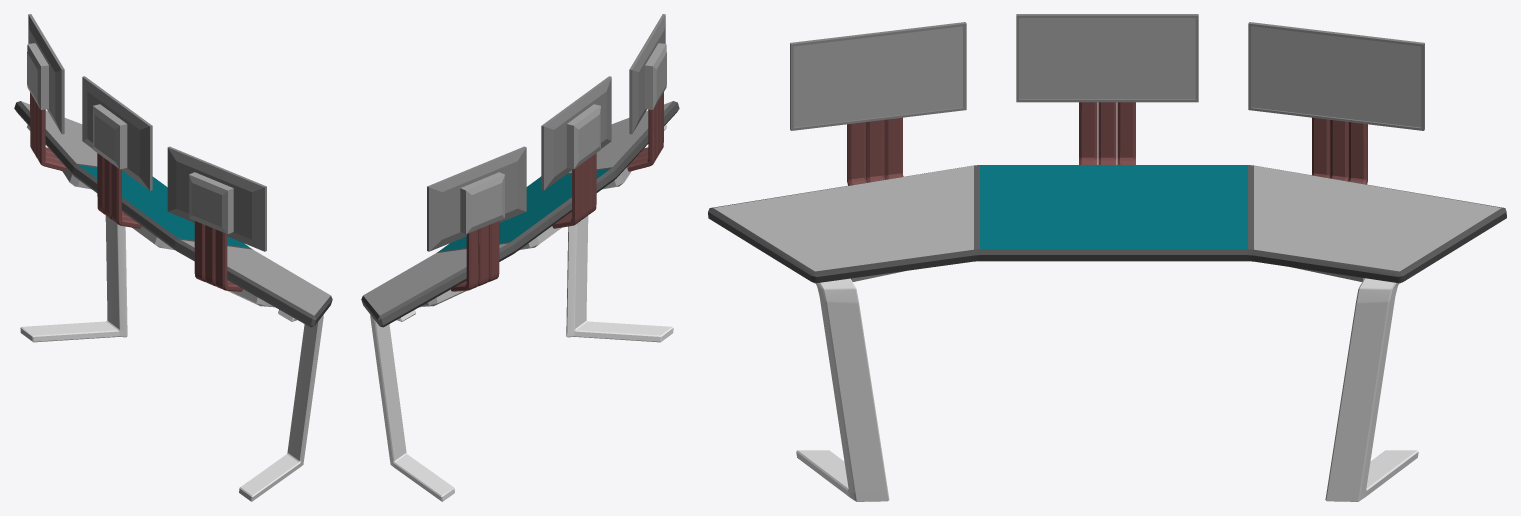
The model's file is ComputerDesk.fbx.
The picture shows the model from 3 angles, left to right: view 1: azimuth 30°, elevation 25°; view 2: azimuth 150°, elevation 25°; view 3: azimuth 270°, elevation 25°; orthographic projection. The views are drawn at different scales.
Parts seen in each view (by area): view 1: Computer_desk; view 2: Computer_desk; view 3: Computer_desk.
Boxes of the visible parts, x1,y1,x2,y2 form: Computer_desk: [14, 14, 332, 501]; Computer_desk: [361, 14, 679, 501]; Computer_desk: [708, 14, 1506, 501].
Size of the model in its own units: 2.18 by 5.63 by 9.45.
